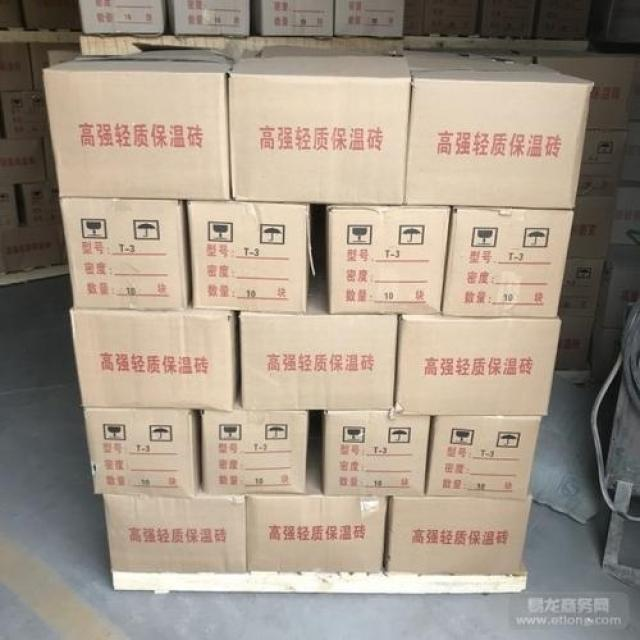box: (404, 54, 591, 212), (42, 54, 238, 200), (230, 51, 413, 204), (238, 261, 398, 411), (243, 419, 387, 572), (69, 310, 236, 412), (394, 315, 557, 416), (186, 201, 324, 310), (59, 198, 193, 310), (442, 206, 575, 317), (325, 206, 451, 314), (383, 495, 530, 573), (102, 495, 247, 573), (83, 410, 202, 495), (425, 415, 544, 499), (201, 410, 317, 494), (320, 410, 433, 495), (579, 97, 631, 198), (161, 1, 253, 37), (557, 255, 603, 319), (563, 197, 612, 256), (253, 3, 334, 37), (81, 0, 164, 32), (333, 0, 403, 37), (553, 315, 593, 370)
